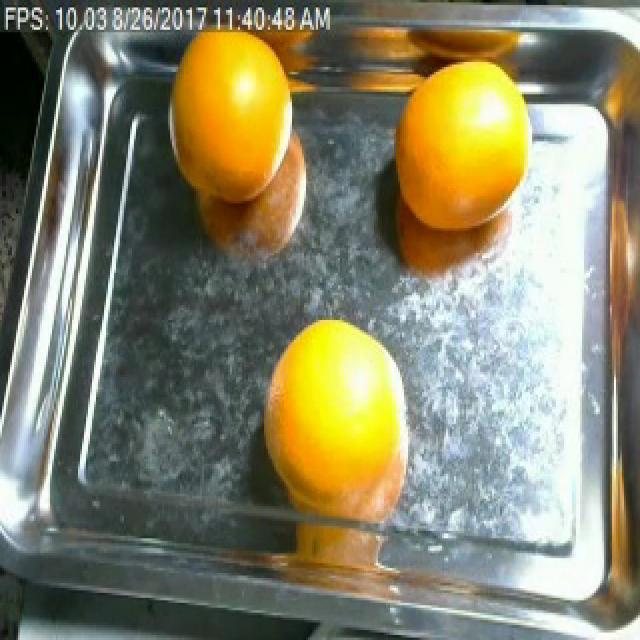Fruit: (372, 42, 544, 253), (248, 300, 424, 506), (152, 15, 302, 218)
